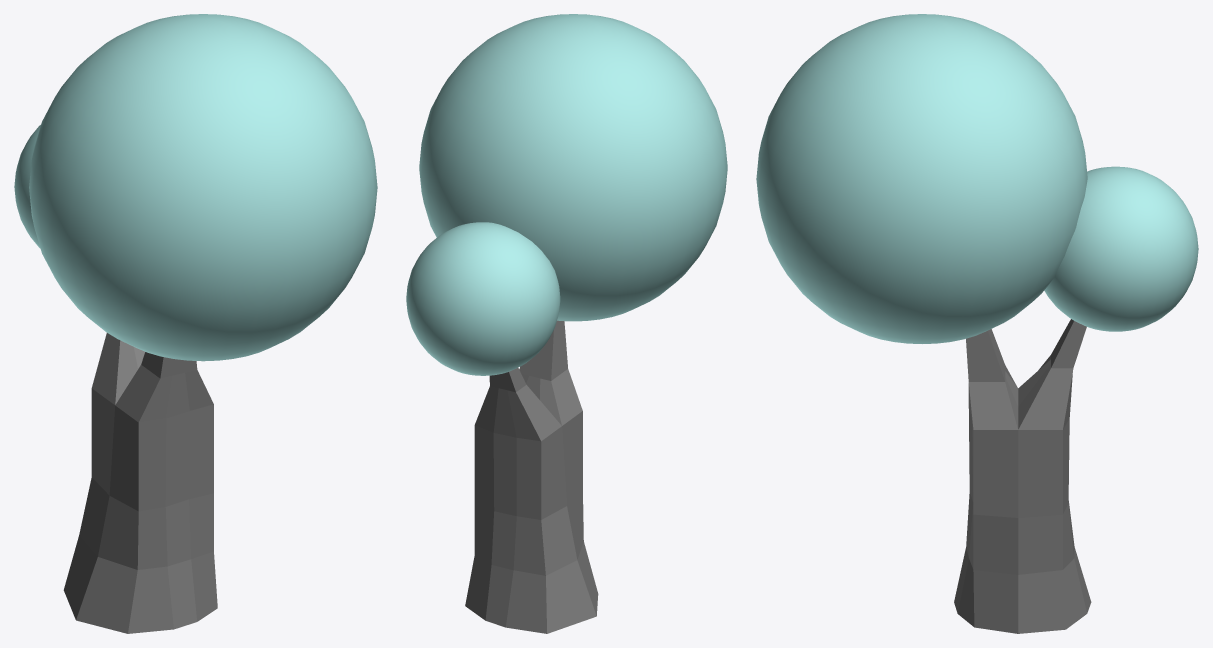
The model's file is tree-smoth-model.gltf.
3 renders of one model, left to right at view 1: azimuth 30°, elevation 25°; view 2: azimuth 150°, elevation 25°; view 3: azimuth 270°, elevation 25°, orthographic. The views are drawn at different scales.
Visible parts, largest first — view 1: Tree_Brush, Tree_Body, Tree_Brush.001; view 2: Tree_Brush, Tree_Body, Tree_Brush.001; view 3: Tree_Brush, Tree_Body, Tree_Brush.001.
Boxes of the visible parts, x1,y1,x2,y2 form: Tree_Brush: [29, 14, 377, 361]; Tree_Body: [63, 333, 217, 633]; Tree_Brush.001: [14, 125, 40, 248]; Tree_Brush: [419, 14, 727, 321]; Tree_Body: [465, 320, 598, 633]; Tree_Brush.001: [406, 222, 560, 375]; Tree_Brush: [756, 14, 1087, 343]; Tree_Body: [954, 319, 1091, 633]; Tree_Brush.001: [1044, 166, 1198, 331].
Size of the model in its own units: 1 by 1.93 by 1.33.
